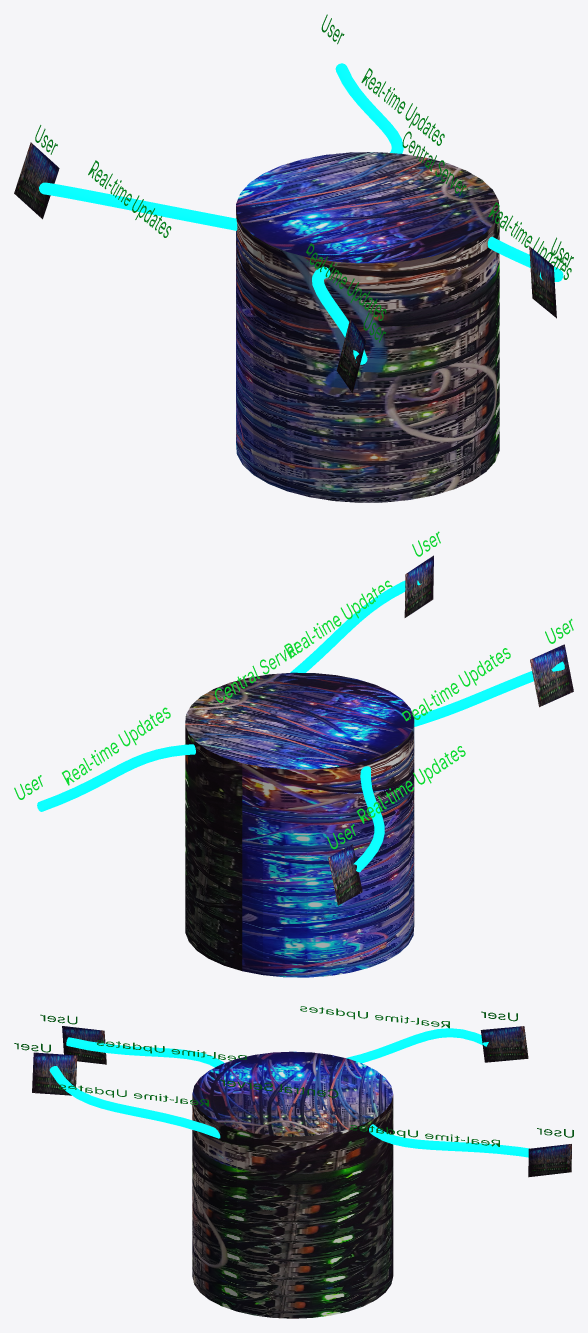
File: Online_Chat_Application.fbx
3 renders of one model, top to bottom at view 1: azimuth 30°, elevation 25°; view 2: azimuth 150°, elevation 25°; view 3: azimuth 270°, elevation 25°, orthographic. The views are drawn at different scales.
Visible parts, largest first — view 1: Central Server, Network Connection.002, Plane.001, Network Connection.004, Plane.003, Plane.002, Network Connection.001, Online Chat Application.007, Online Chat Application.008, Online Chat Application.006, Network Connection.003, Online Chat Application.005; view 2: Central Server, Network Connection.004, Plane.002, Network Connection.003, Network Connection.001, Plane.001, Plane.003, Network Connection.002, Online Chat Application.007, Online Chat Application.008, Online Chat Application.006, Online Chat Application.005; view 3: Central Server, Network Connection.003, Network Connection.004, Plane.003, Plane.001, Network Connection.001, Network Connection.002, Plane, Plane.002, Online Chat Application.008, Online Chat Application.007, Online Chat Application.006 (+2 smaller).
Boxes of the visible parts, box(x1,y1,x2,y2) form: Central Server: box(236, 152, 499, 502); Network Connection.002: box(39, 182, 237, 230); Plane.001: box(14, 142, 59, 219); Network Connection.004: box(335, 63, 403, 153); Plane.003: box(529, 246, 556, 318); Plane.002: box(336, 318, 365, 393); Network Connection.001: box(312, 266, 367, 364); Online Chat Application.007: box(88, 160, 171, 237); Online Chat Application.008: box(361, 68, 444, 145); Online Chat Application.006: box(306, 243, 386, 320); Network Connection.003: box(487, 236, 563, 281); Online Chat Application.005: box(488, 202, 571, 279); Central Server: box(185, 672, 414, 977); Network Connection.004: box(37, 744, 195, 811); Plane.002: box(530, 644, 573, 707); Network Connection.003: box(290, 580, 421, 672); Network Connection.001: box(414, 661, 564, 726); Plane.001: box(328, 844, 362, 905); Plane.003: box(404, 555, 433, 617); Network Connection.002: box(353, 766, 384, 872); Online Chat Application.007: box(356, 746, 465, 823); Online Chat Application.008: box(62, 707, 170, 785); Online Chat Application.006: box(402, 648, 510, 721); Online Chat Application.005: box(284, 580, 392, 658); Central Server: box(192, 1051, 393, 1318); Network Connection.003: box(49, 1066, 220, 1138); Network Connection.004: box(369, 1124, 529, 1157); Plane.003: box(32, 1052, 77, 1095); Plane.001: box(480, 1026, 528, 1062); Network Connection.001: box(66, 1037, 223, 1067); Network Connection.002: box(346, 1028, 488, 1063); Plane: box(528, 1144, 571, 1177); Plane.002: box(62, 1026, 106, 1064); Online Chat Application.008: box(350, 1125, 499, 1146); Online Chat Application.007: box(300, 1006, 449, 1028); Online Chat Application.006: box(97, 1040, 246, 1060).
Bounding box in the file's own units: 707 × 611 × 1276.
4 materials, 2 textured.
